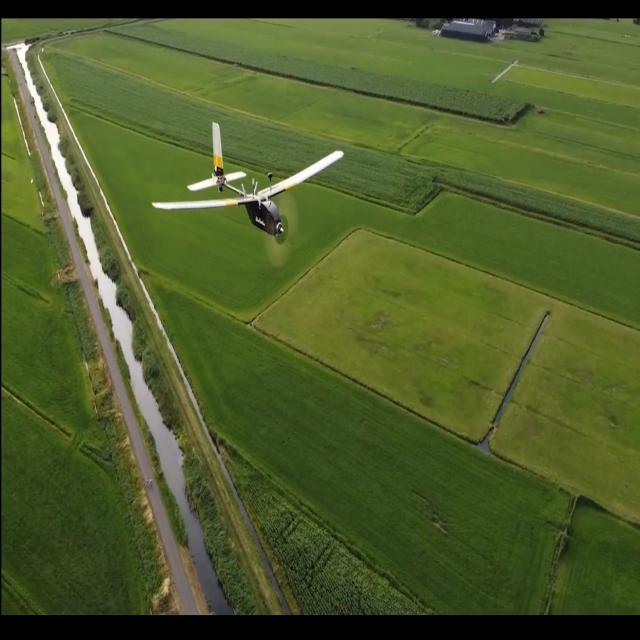iha: (152, 113, 346, 254)
